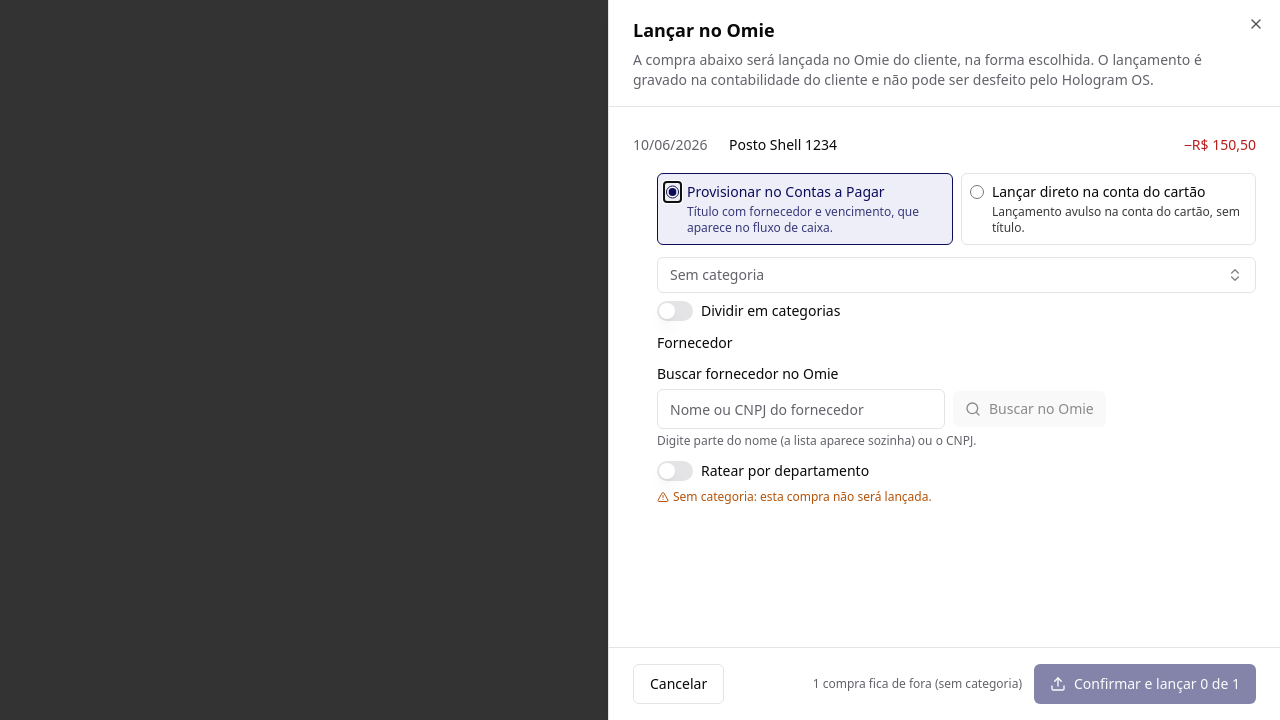
Test case: Fornecedor › erro da busca: a mensagem do servidor e "Tentar de novo"
Type "12.345.678/0001-95" into the field named "Buscar fornecedor no Omie — 10/06/2026".
click(801, 409); type("12.345.678/0001-95")  # box x1=657 y1=389 x2=945 y2=429
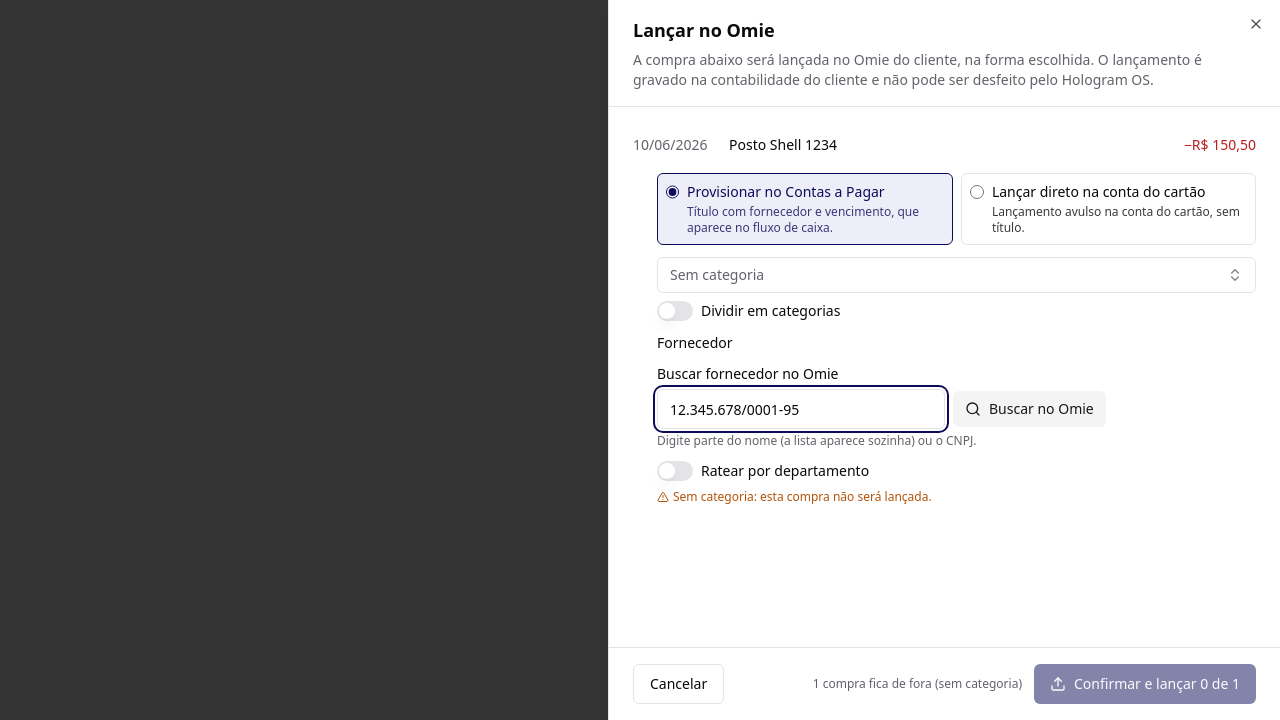
Click the button "Buscar no Omie".
click(1029, 409)  # box x1=953 y1=391 x2=1106 y2=427
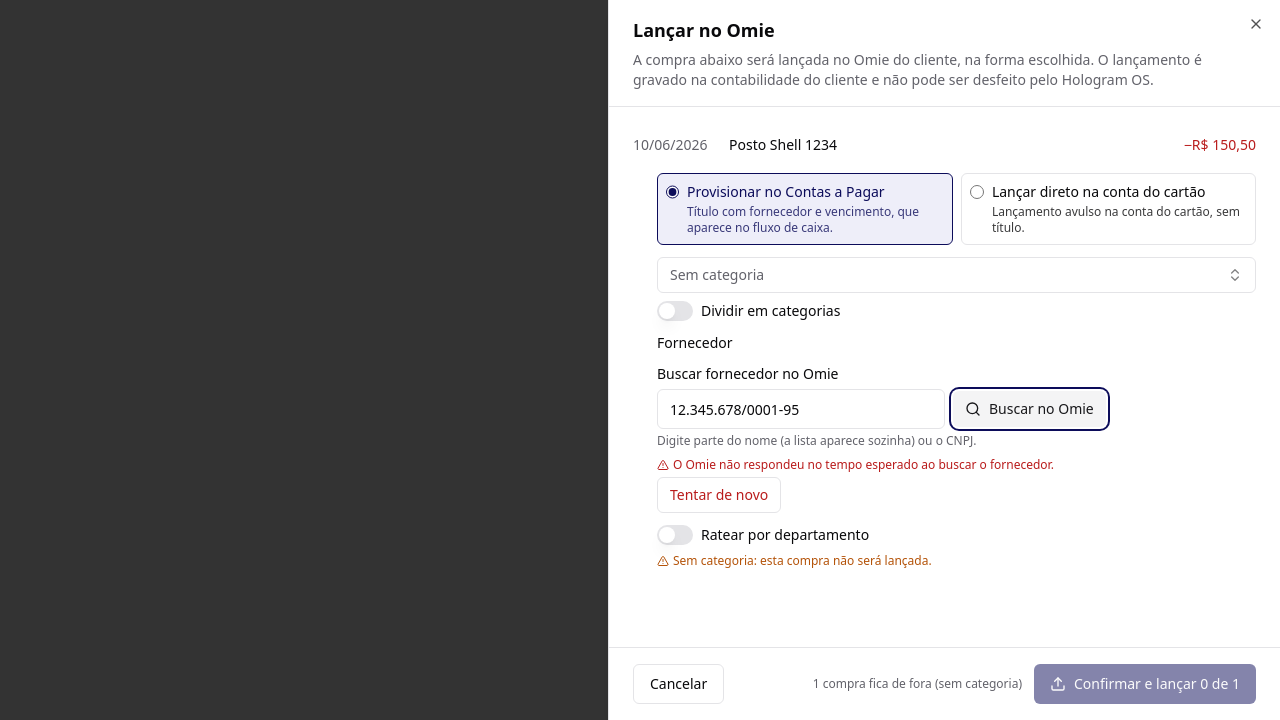
Expected: the text "não respondeu no tempo esperado" is shown, x1=673 y1=456 x2=1054 y2=473
Click the button "Tentar de novo".
click(719, 495)  # box x1=657 y1=477 x2=781 y2=513
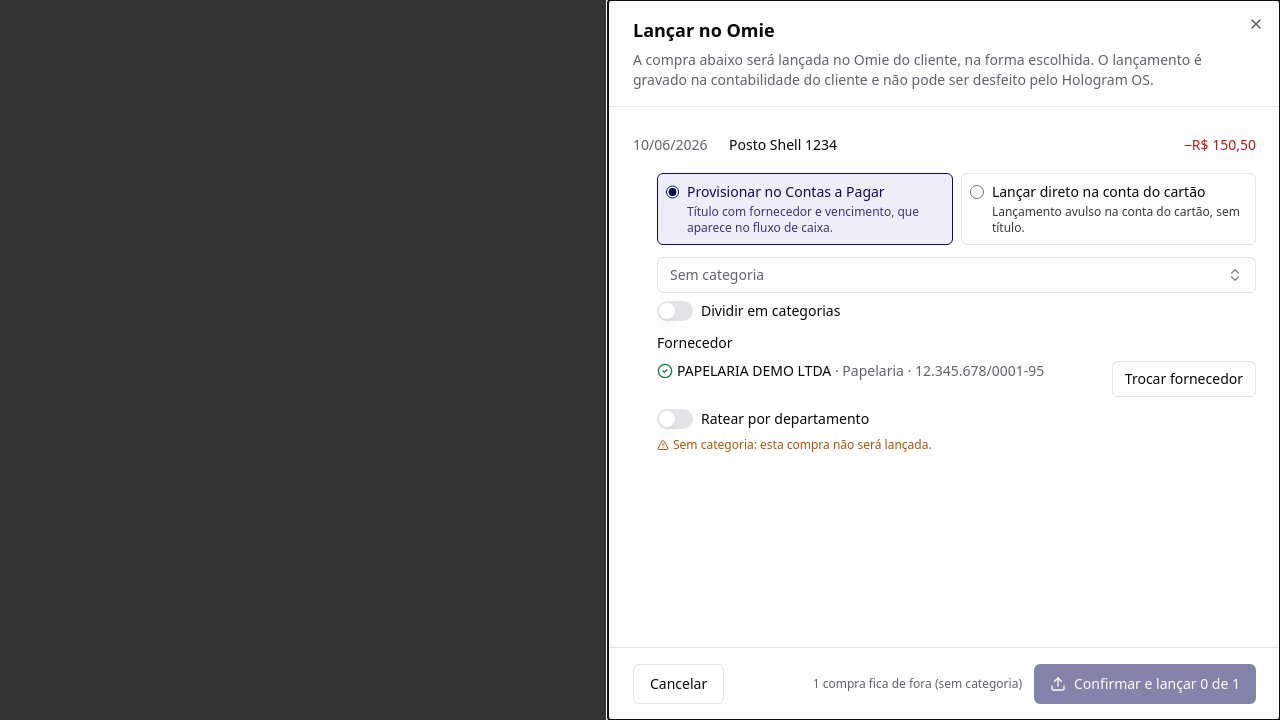
Expected: the text "PAPELARIA DEMO LTDA" is shown, x1=677 y1=361 x2=831 y2=380
